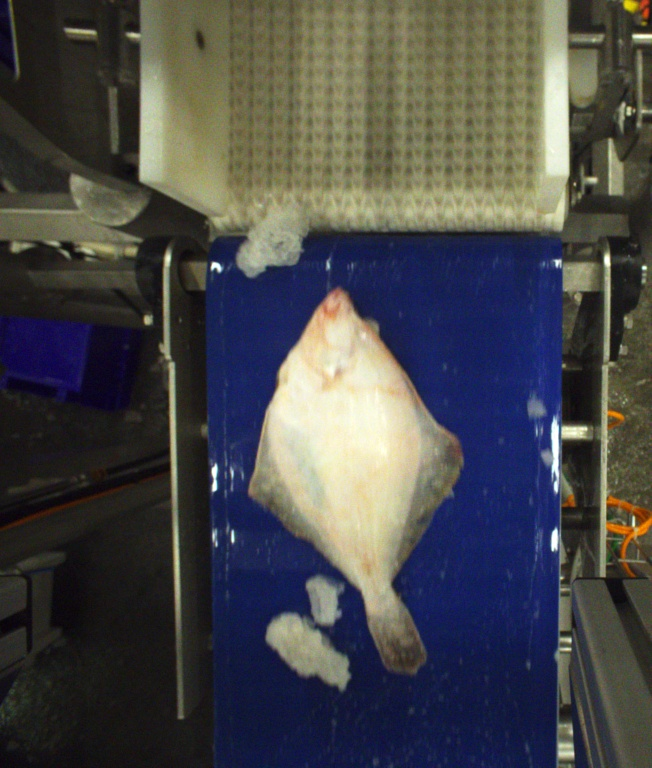PLE: (249, 289, 462, 673)
